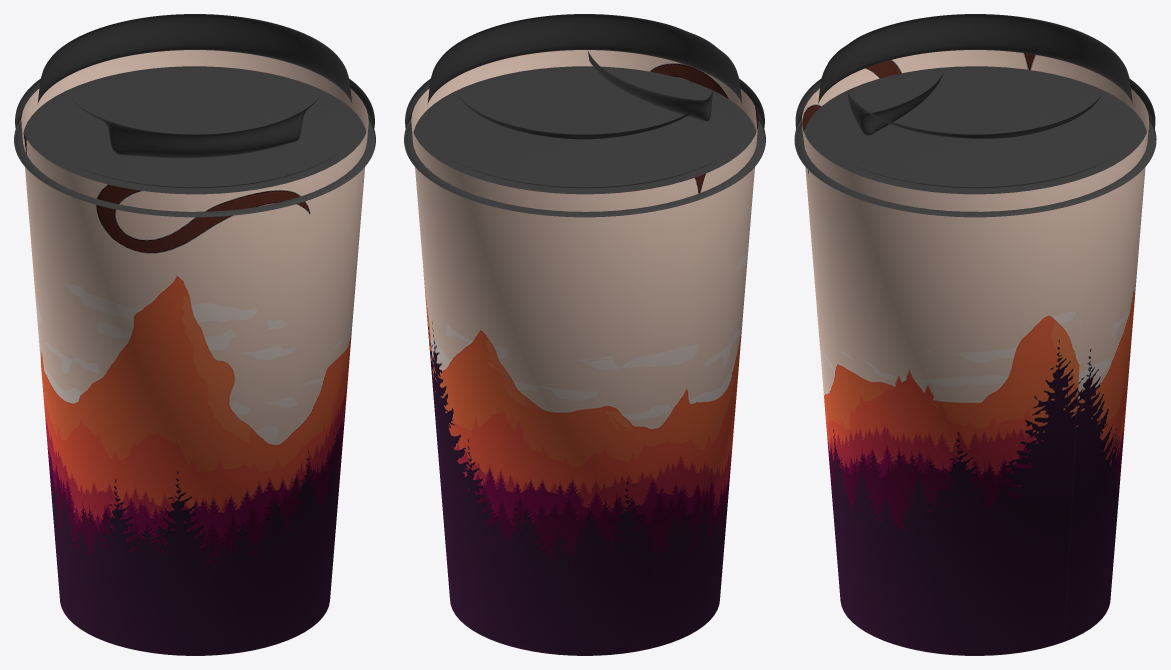
The model's file is mug.glb.
3 views of the same model, side by side, from view 1: azimuth 30°, elevation 25°; view 2: azimuth 150°, elevation 25°; view 3: azimuth 270°, elevation 25° (orthographic).
Visible parts, largest first — view 1: Coffee Coup, Lid; view 2: Coffee Coup, Lid; view 3: Coffee Coup, Lid.
Part boxes in pixels (x1,y1,x2,y2): Coffee Coup: (21, 50, 368, 655); Lid: (14, 14, 375, 217); Coffee Coup: (411, 50, 758, 655); Lid: (404, 14, 765, 217); Coffee Coup: (802, 50, 1148, 655); Lid: (794, 14, 1156, 217).
Bounding box in the file's own units: 6.8 × 10.8 × 6.8.
2 materials, 1 textured.
